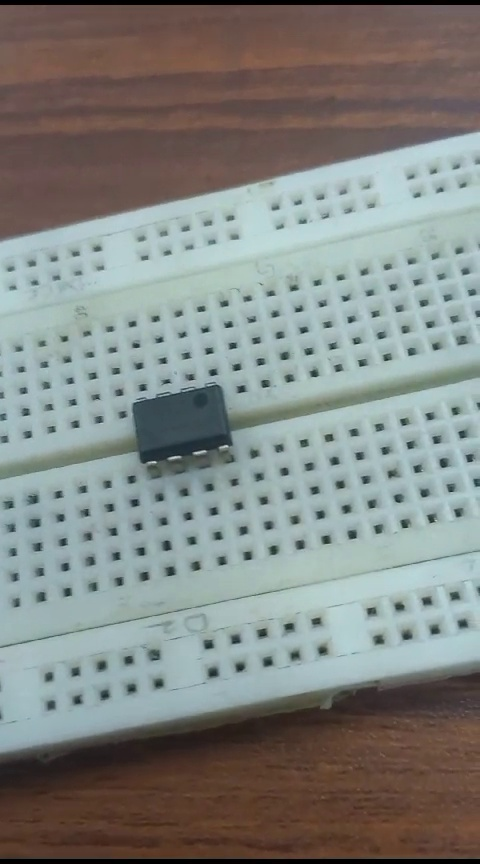IC: (116, 368, 238, 471)
